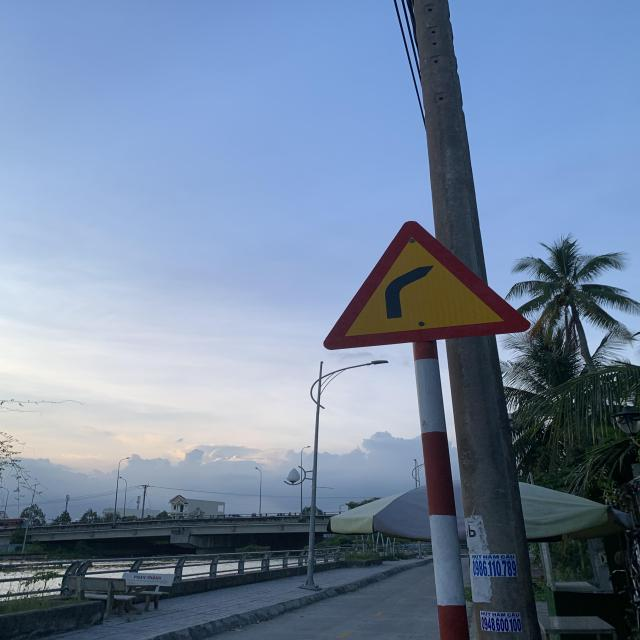Duong_Nguoi_Di_Bo_Cat_Ngang: (320, 218, 533, 354)
